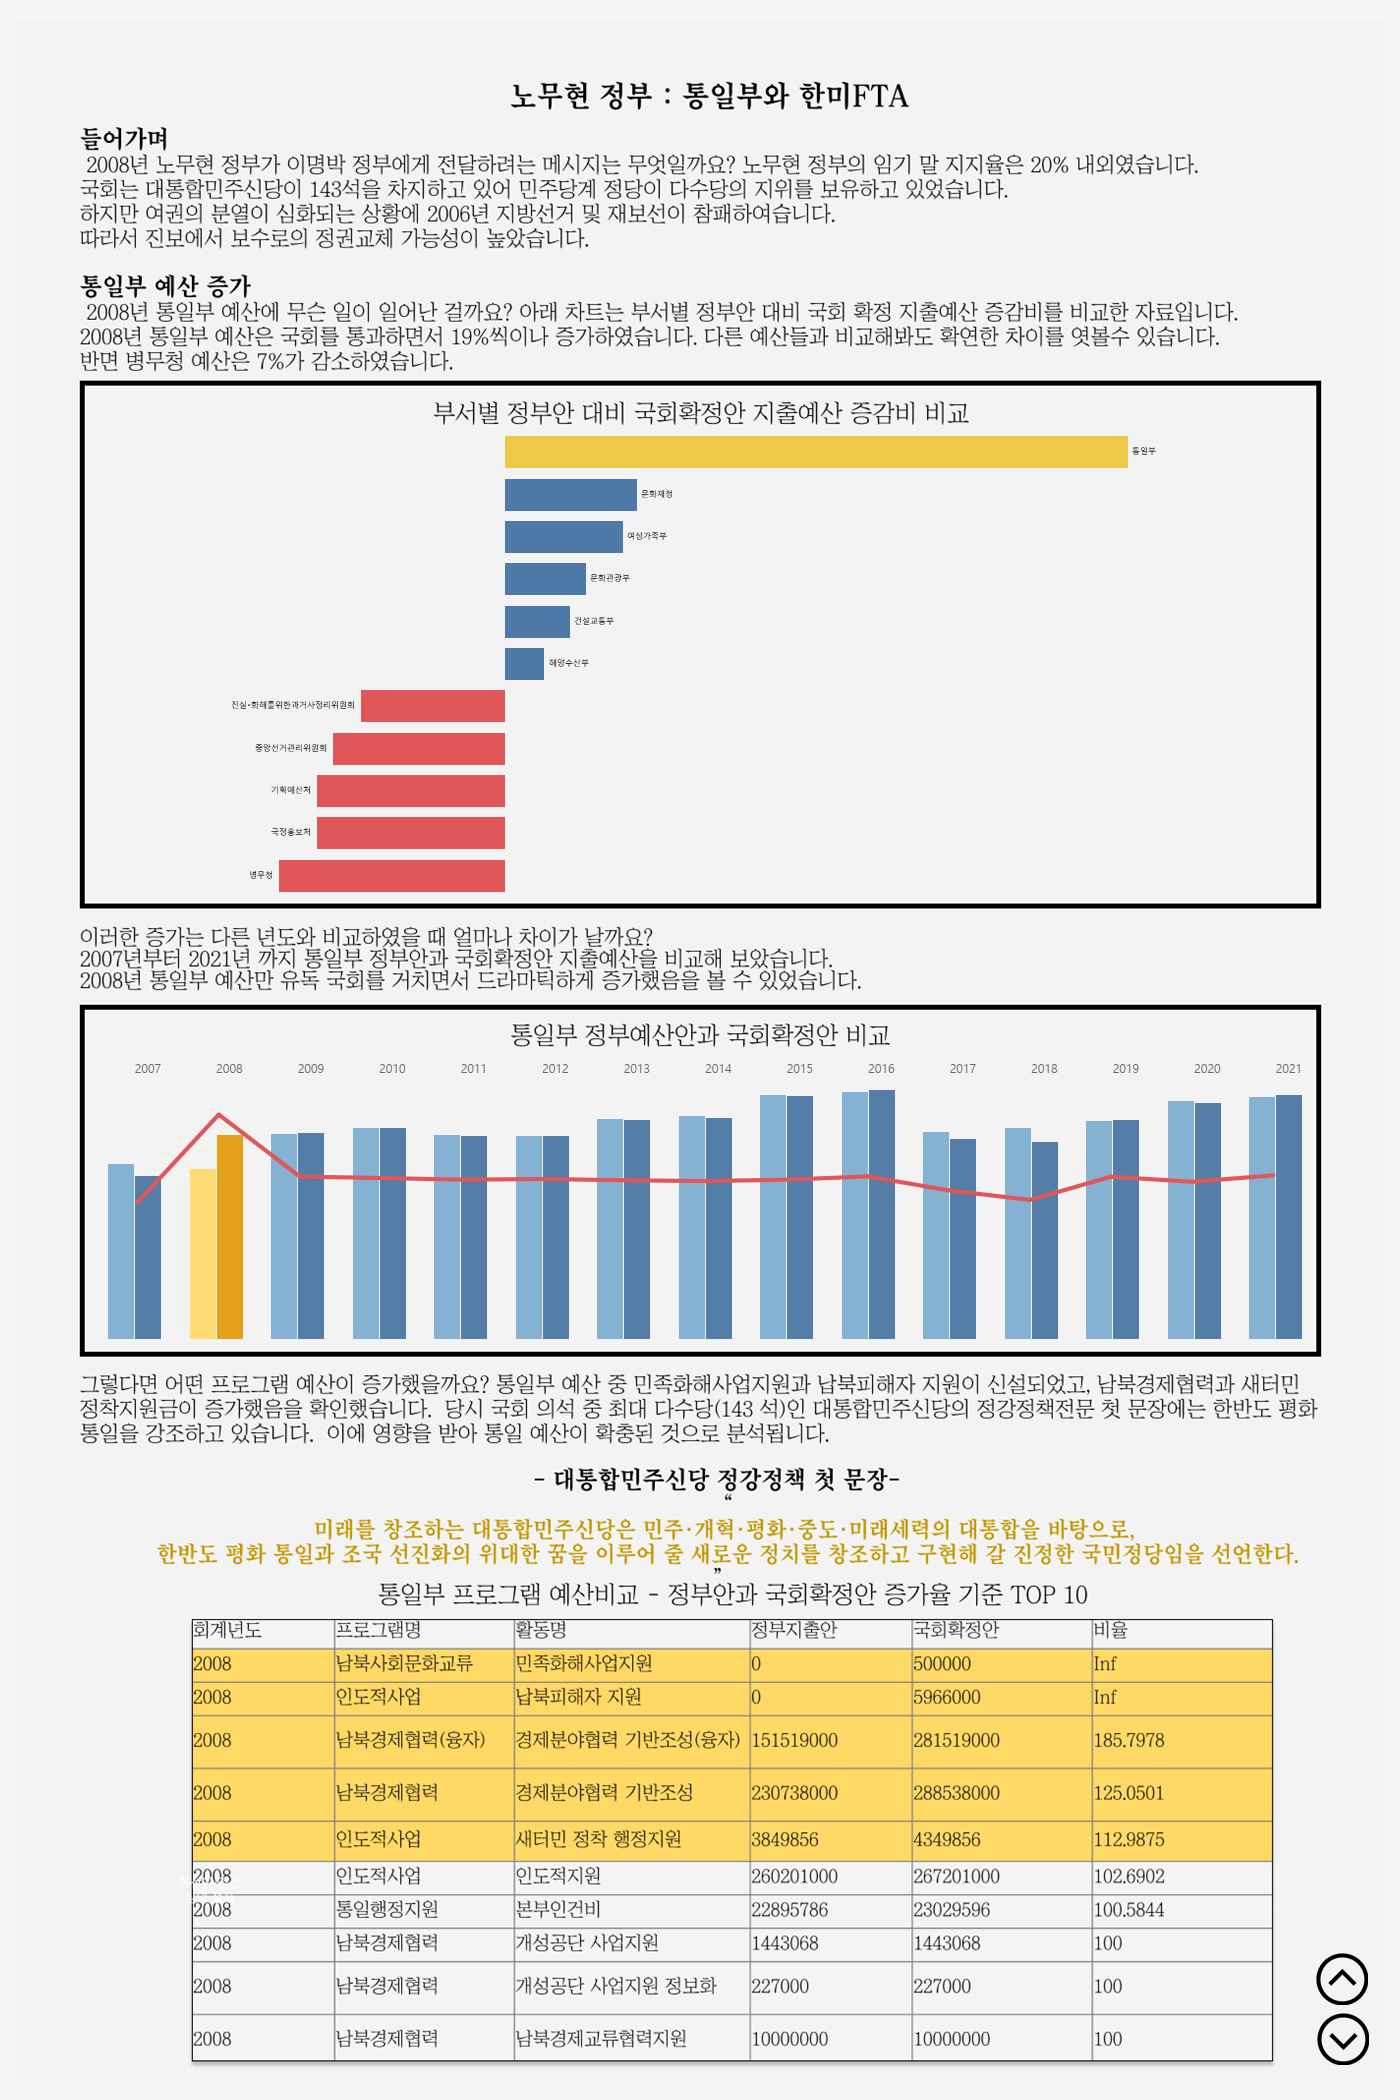

The page's visual inventory and layout, read from the dashboard file:
{"tool":"tableau","page":{"name":"2. 본론1.1","canvas":[1400,2100],"ordinal":1},"visuals":[{"type":"image","param":"Image/Group 14.png","box":[8,8,1384,2084]},{"type":"worksheet","title":"figure 1","mark":"Automatic","rows":["OFFC_NM (Sheet11)"],"cols":["RT_delta"],"box":[105,431,1197,467]},{"type":"worksheet","title":"figure 2","mark":"Bar","rows":["vtnone"],"cols":["FSCL_YY","피벗 필드명"],"box":[107,1058,1223,281]},{"type":"worksheet","title":"figure 2 (2)","mark":"Line","rows":["통일부_증감비율"],"cols":["FSCL_YY"],"box":[56,1080,1298,196]}]}

Visuals, with their boxes in screenshot pixels (x1, y1, x2, y2), scaled from the page's 1400x2100 canvas onto the 1400x2100 screenshot:
image: [left=8, top=8, right=1392, bottom=2092]
"figure 1" worksheet: [left=105, top=431, right=1302, bottom=898]
"figure 2" worksheet (Bar marks): [left=107, top=1058, right=1330, bottom=1339]
"figure 2 (2)" worksheet (Line marks): [left=56, top=1080, right=1354, bottom=1276]
